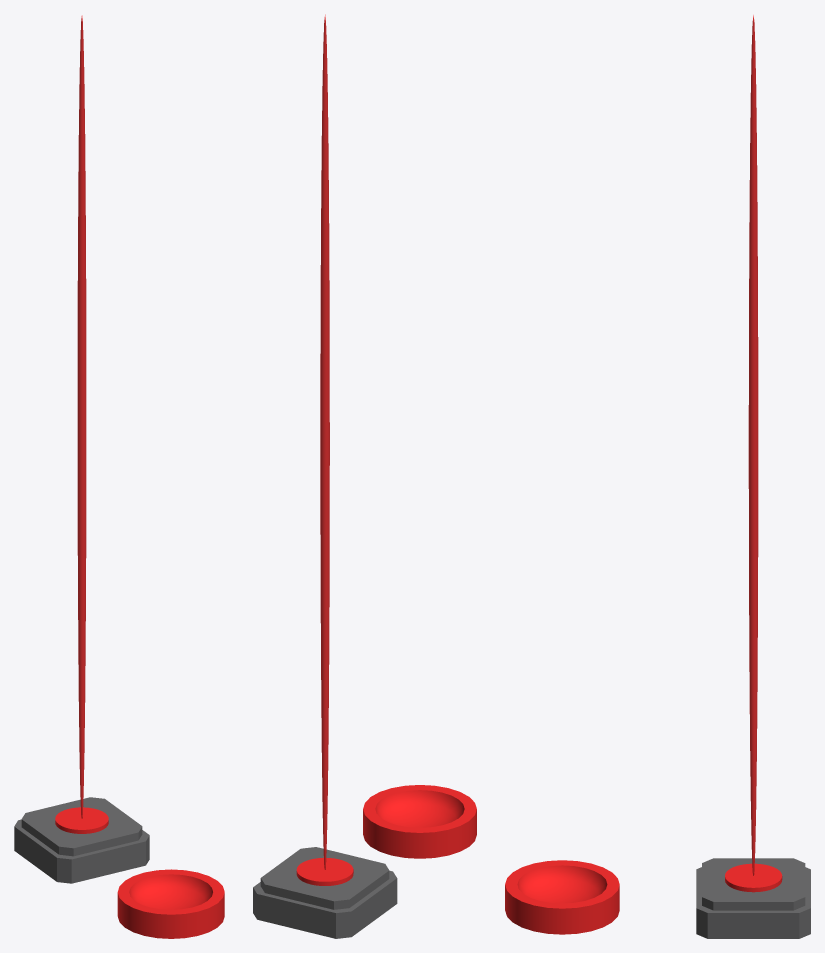
File: TripWire.obj
3 views of the same model, side by side, from view 1: azimuth 30°, elevation 25°; view 2: azimuth 150°, elevation 25°; view 3: azimuth 270°, elevation 25° (orthographic). The views are drawn at different scales.
Visible parts, largest first — view 1: Handle, Output, Light, Part; view 2: Handle, Output, Light, Part; view 3: Handle, Output, Light, Part.
Part boxes in pixels (box(x1,y1,x2,y2)): Handle: box(14, 797, 149, 883); Output: box(117, 869, 224, 938); Light: box(77, 15, 86, 818); Part: box(55, 807, 108, 833); Handle: box(253, 847, 397, 938); Output: box(363, 785, 476, 858); Light: box(320, 14, 329, 869); Part: box(296, 857, 353, 885); Handle: box(696, 858, 810, 938); Output: box(505, 860, 619, 934); Light: box(748, 15, 758, 875); Part: box(725, 863, 782, 892).
Size of the model in its own units: 0.6 by 5.2 by 1.6.
